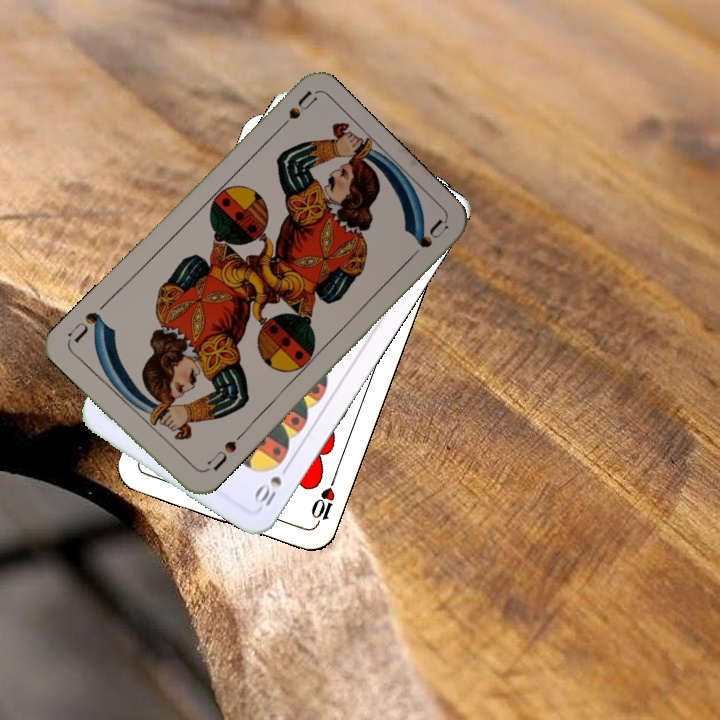H10: (306, 473, 338, 530)
S10: (250, 459, 293, 509)
SU: (270, 87, 319, 137), (199, 436, 239, 476)
